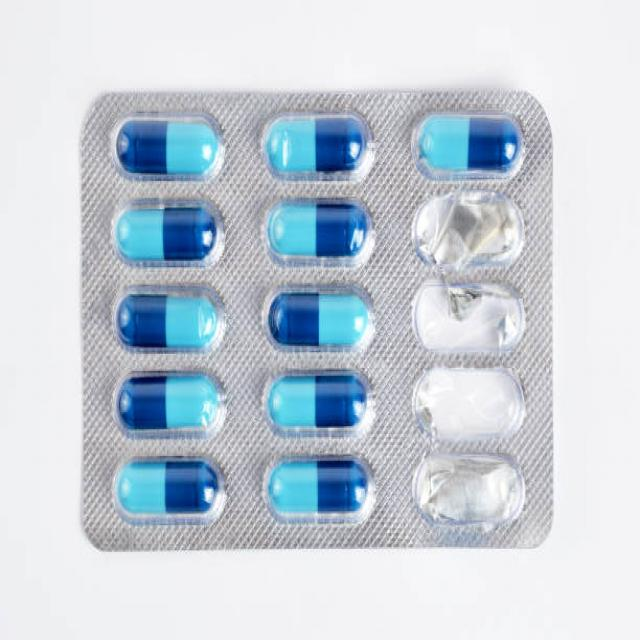Empty: (412, 364, 528, 449), (414, 454, 526, 542), (410, 193, 528, 274), (412, 279, 530, 359)
Pill: (258, 442, 378, 536), (106, 193, 234, 280), (404, 100, 535, 184), (106, 368, 234, 448), (105, 109, 230, 190), (256, 107, 386, 183), (256, 278, 376, 360), (106, 458, 233, 534), (106, 288, 233, 362), (256, 368, 381, 443), (258, 192, 378, 268)
